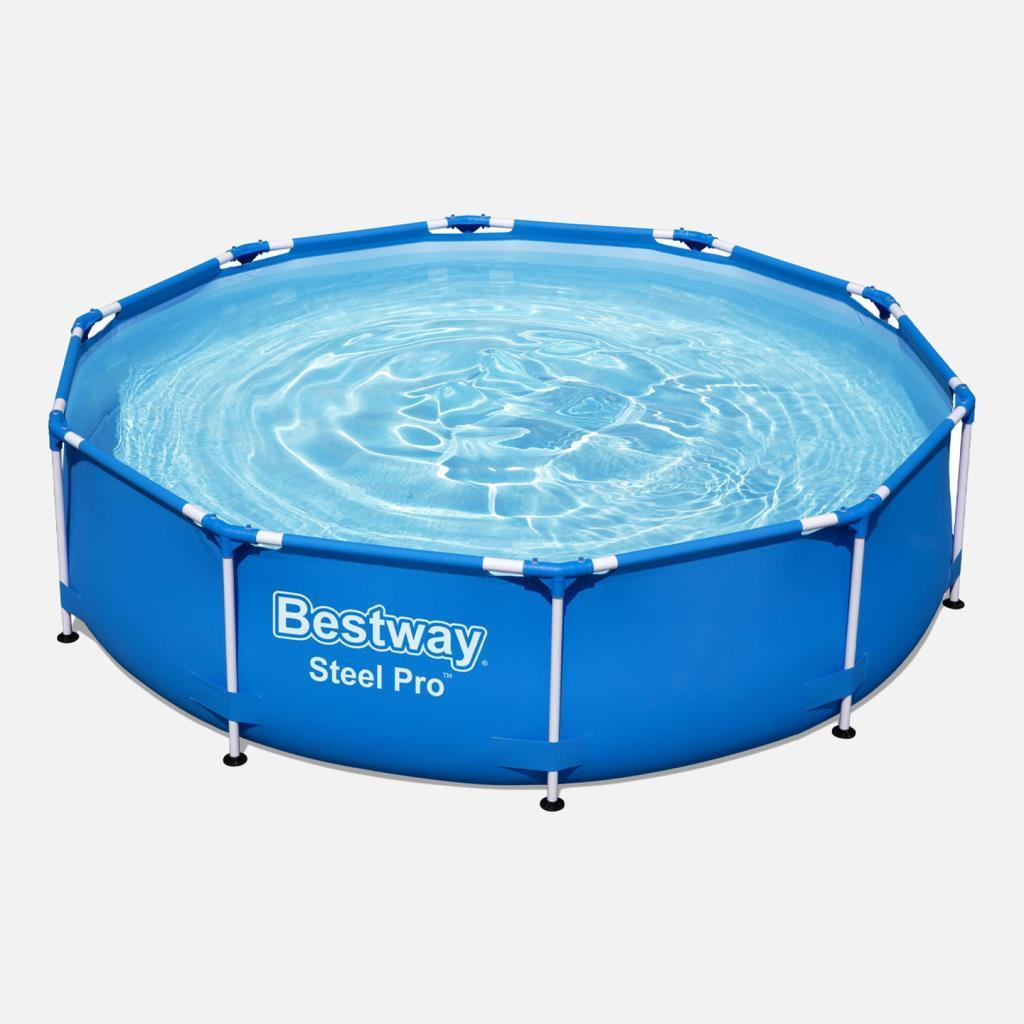havuz: (52, 212, 976, 785)
